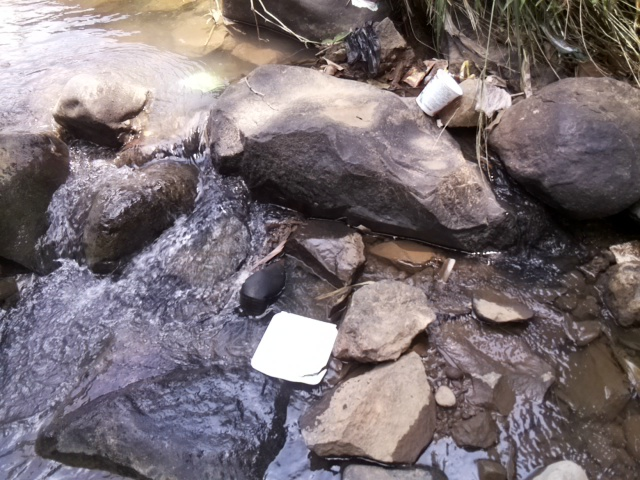Sampah_Styrofoam: (251, 309, 341, 390), (413, 66, 465, 119)
